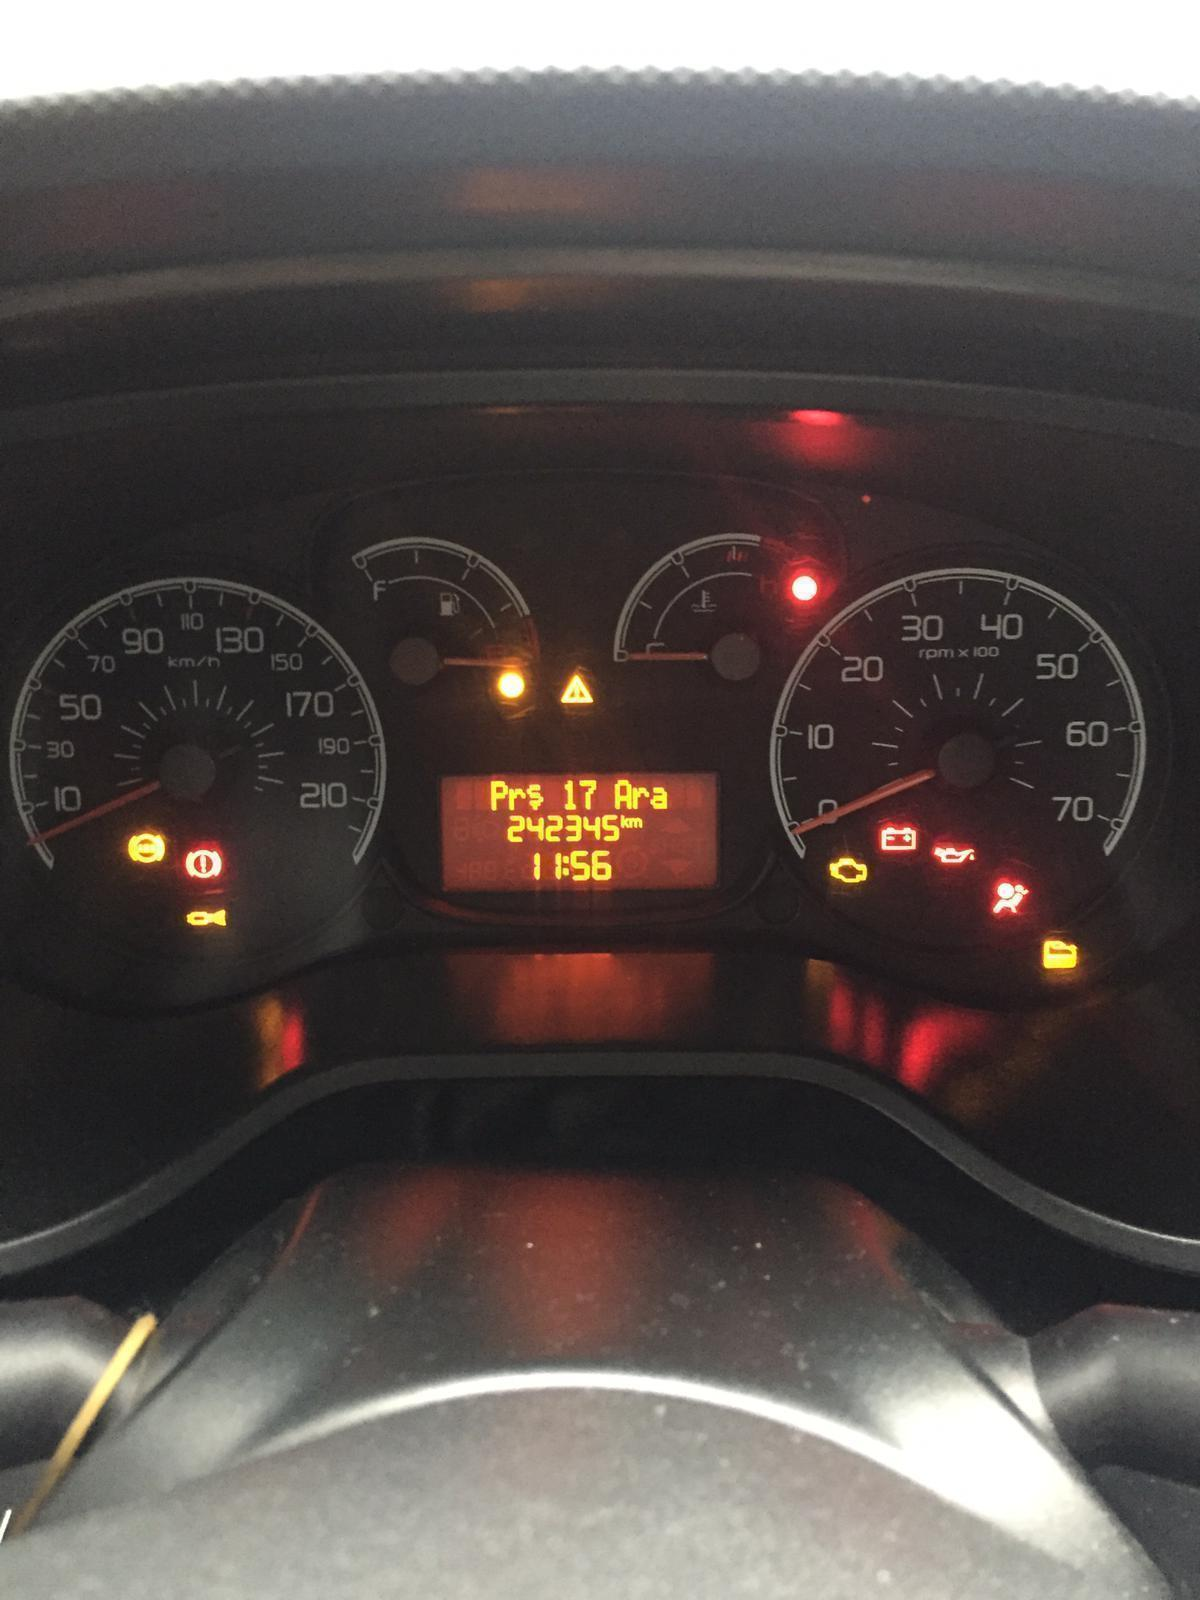1: (563, 779, 576, 810), (553, 850, 562, 881), (532, 850, 541, 881)
2: (545, 814, 563, 842), (505, 815, 524, 843)
3: (563, 814, 582, 842)
4: (526, 816, 545, 842), (582, 815, 601, 840)
5: (570, 850, 590, 881), (601, 814, 620, 842)
6: (590, 850, 613, 881)
7: (579, 779, 597, 810)
X: (613, 779, 632, 810), (489, 780, 508, 811), (526, 784, 545, 811), (632, 786, 650, 810), (507, 787, 526, 811), (649, 786, 667, 810), (628, 816, 642, 828), (561, 855, 568, 876), (619, 814, 629, 828)
odometer: (434, 769, 725, 900)
